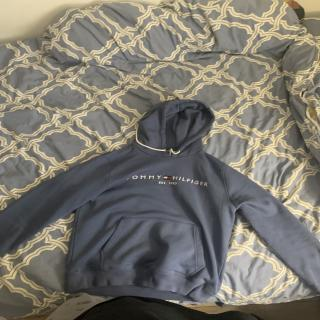Blue Hoodie: (1, 95, 320, 302)
